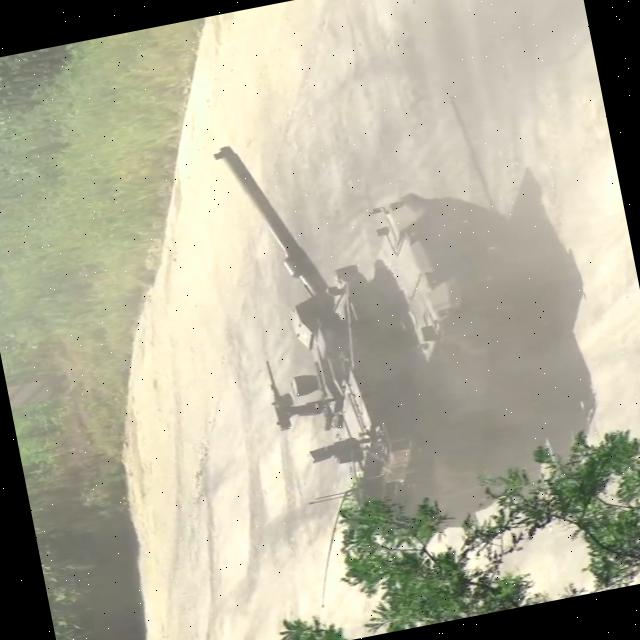korea tank: (209, 89, 596, 566)
